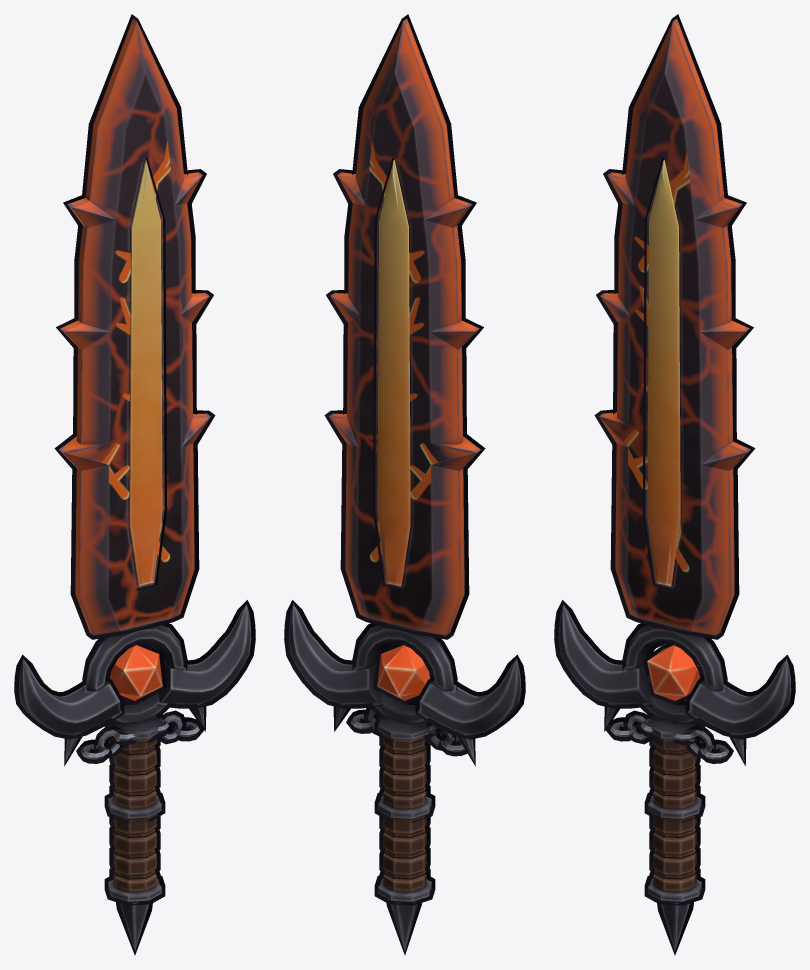
The model's file is MoltenCoreBlade.fbx.
3 renders of one model, left to right at view 1: azimuth 30°, elevation 25°; view 2: azimuth 150°, elevation 25°; view 3: azimuth 330°, elevation 25°, orthographic.
Parts seen in each view (by area): view 1: MoltenCoreBlade, MoltenCoreBladeOutline, MoltenCoreBladeCoreGlow; view 2: MoltenCoreBlade, MoltenCoreBladeOutline, MoltenCoreBladeCoreGlow; view 3: MoltenCoreBlade, MoltenCoreBladeOutline, MoltenCoreBladeCoreGlow.
Part boxes in pixels (x1,y1,x2,y2): MoltenCoreBlade: (18, 19, 251, 950); MoltenCoreBladeOutline: (14, 14, 255, 955); MoltenCoreBladeCoreGlow: (109, 160, 162, 700); MoltenCoreBlade: (288, 19, 521, 950); MoltenCoreBladeOutline: (284, 14, 525, 955); MoltenCoreBladeCoreGlow: (377, 160, 430, 700); MoltenCoreBlade: (558, 19, 791, 950); MoltenCoreBladeOutline: (554, 14, 795, 955); MoltenCoreBladeCoreGlow: (647, 160, 700, 700).
Size of the model in its own units: 130 by 498 by 30.34.
2 materials, 1 textured.
